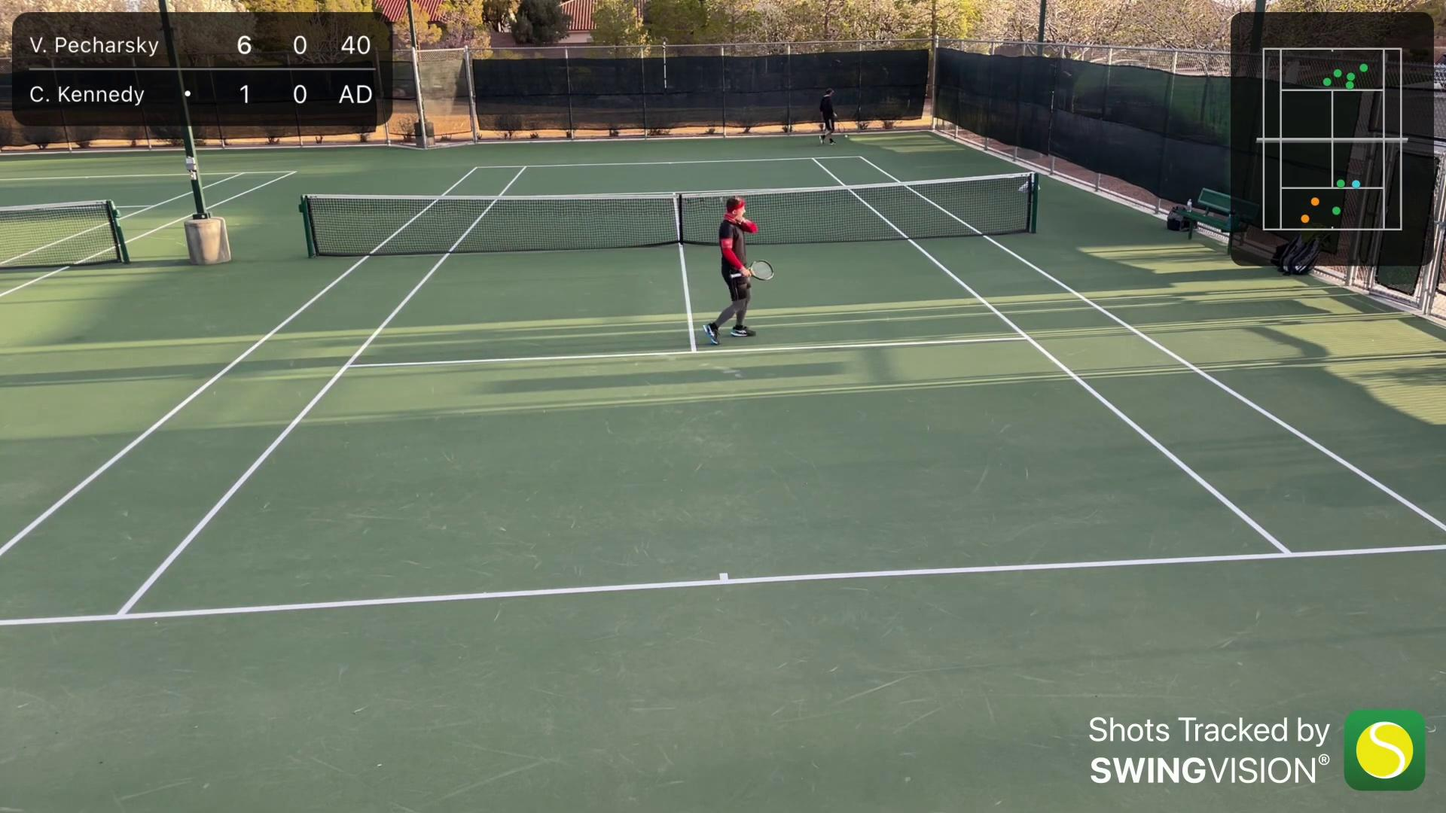ball: (842, 134, 851, 140)
